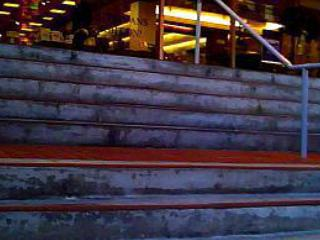Escaleras: (0, 37, 320, 156), (0, 155, 320, 240)
